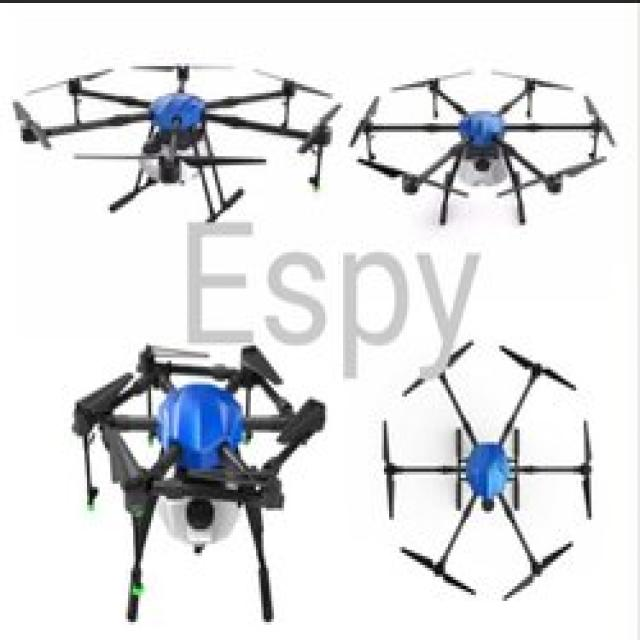drone: (48, 339, 327, 640), (353, 342, 633, 626), (10, 63, 342, 240), (344, 58, 640, 229)
